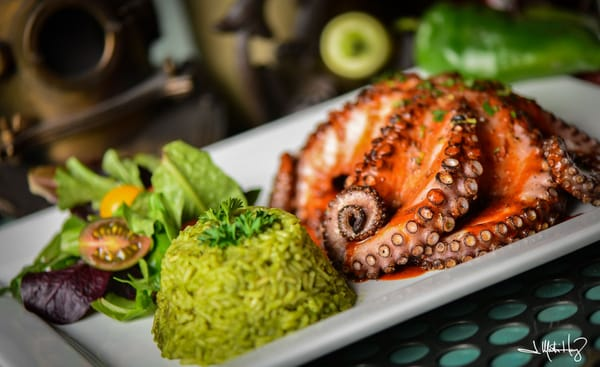curry: (153, 200, 358, 363)
